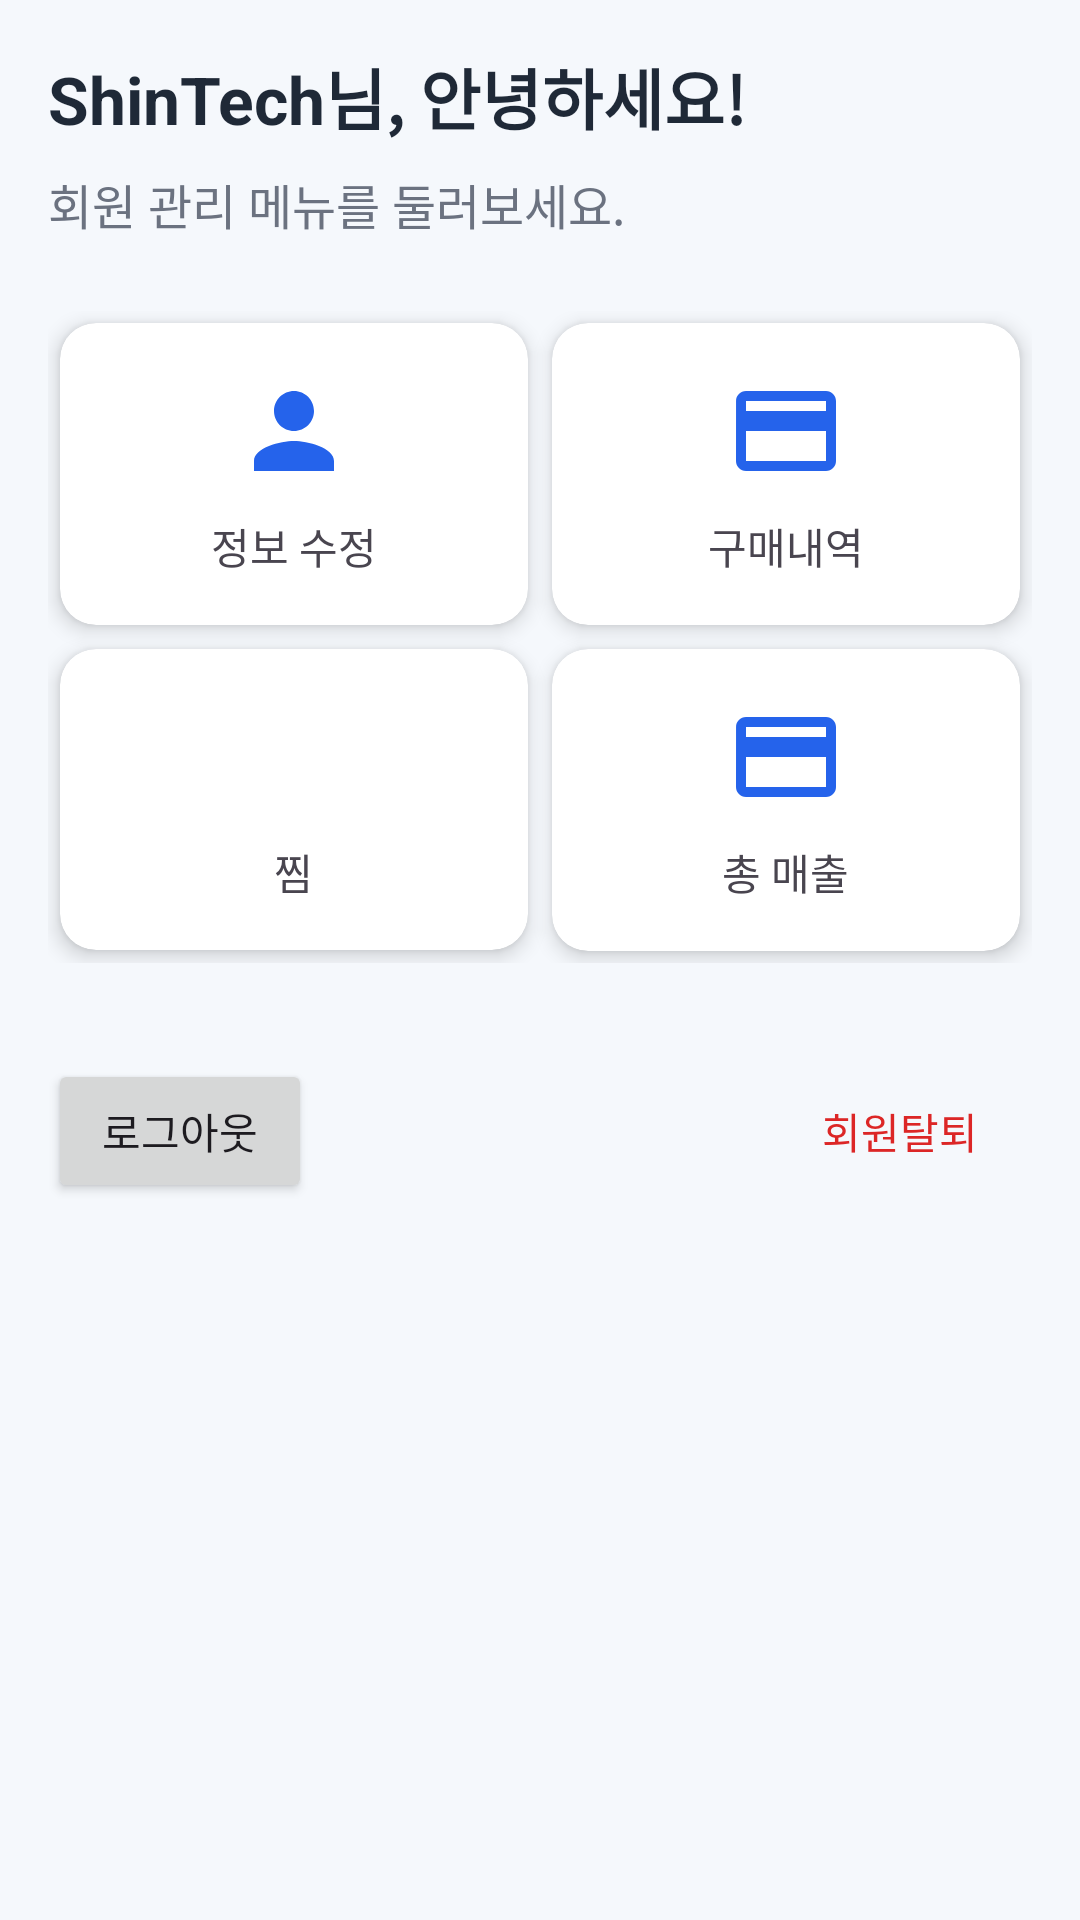

Screen size 1080*1920. Icon name, then its center in pixels as (x=x, y=y):
payment: (x=786, y=431), (x=786, y=757)
